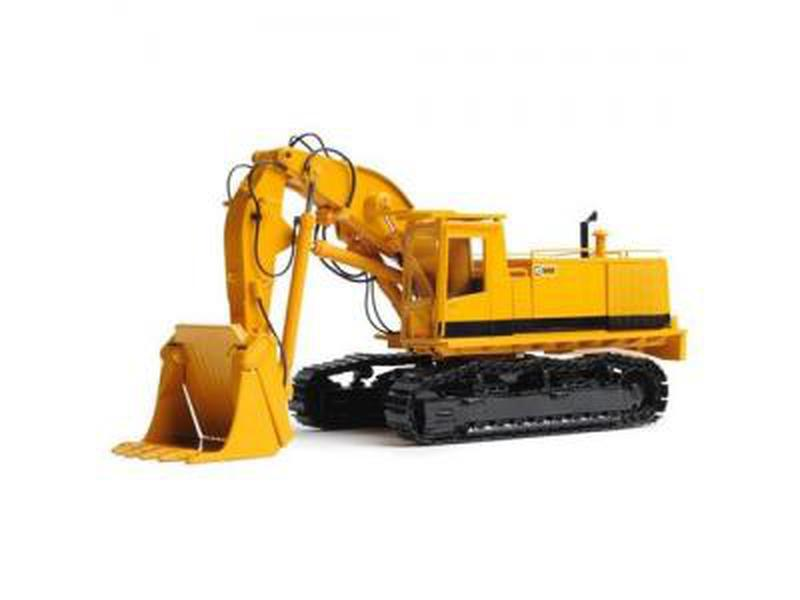shovel: (108, 127, 692, 466)
